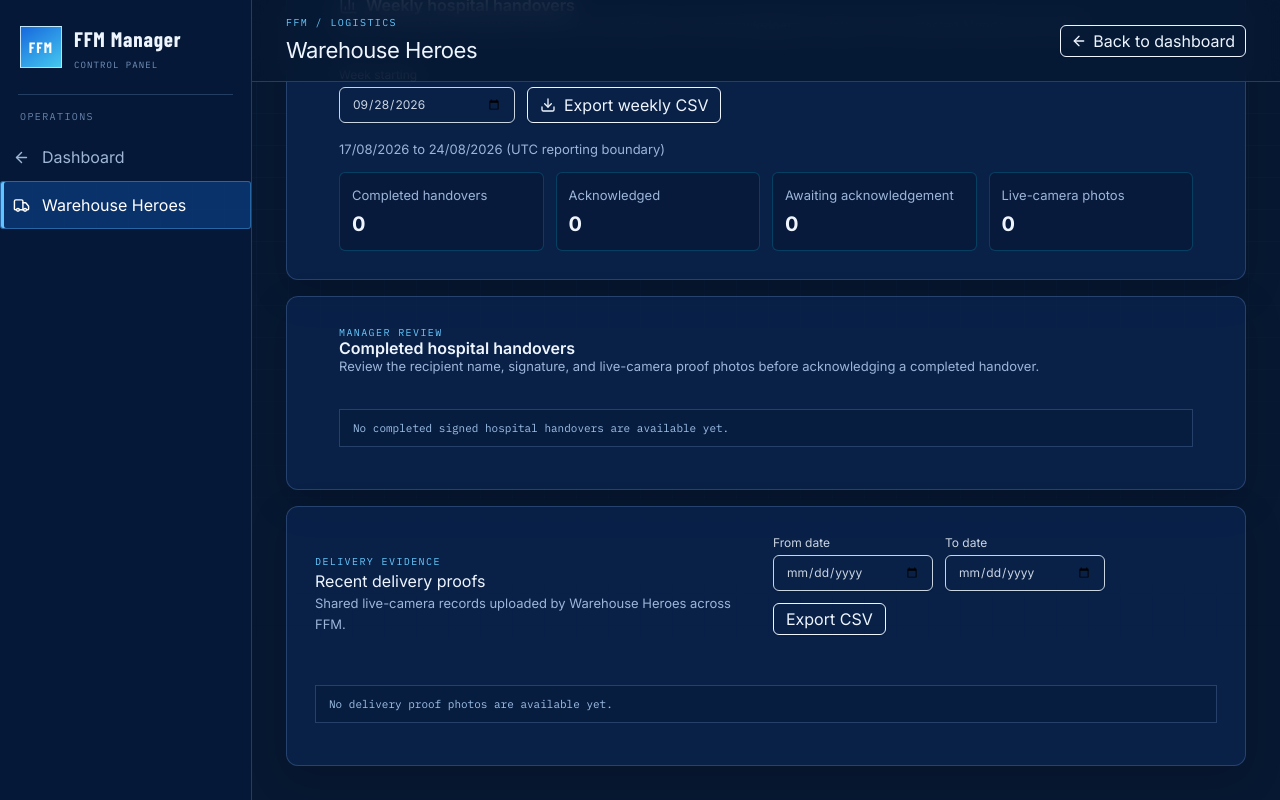
Test: WarehouseHeroesWorkspace delivery-proof export › renders visible retry feedback when the Manager delivery-proof CSV export request fails
The width and height of the screenshot is (1280, 800).
(page scrolled)
Click the button "Export CSV" at x=829, y=619, box [773,603,886,635]
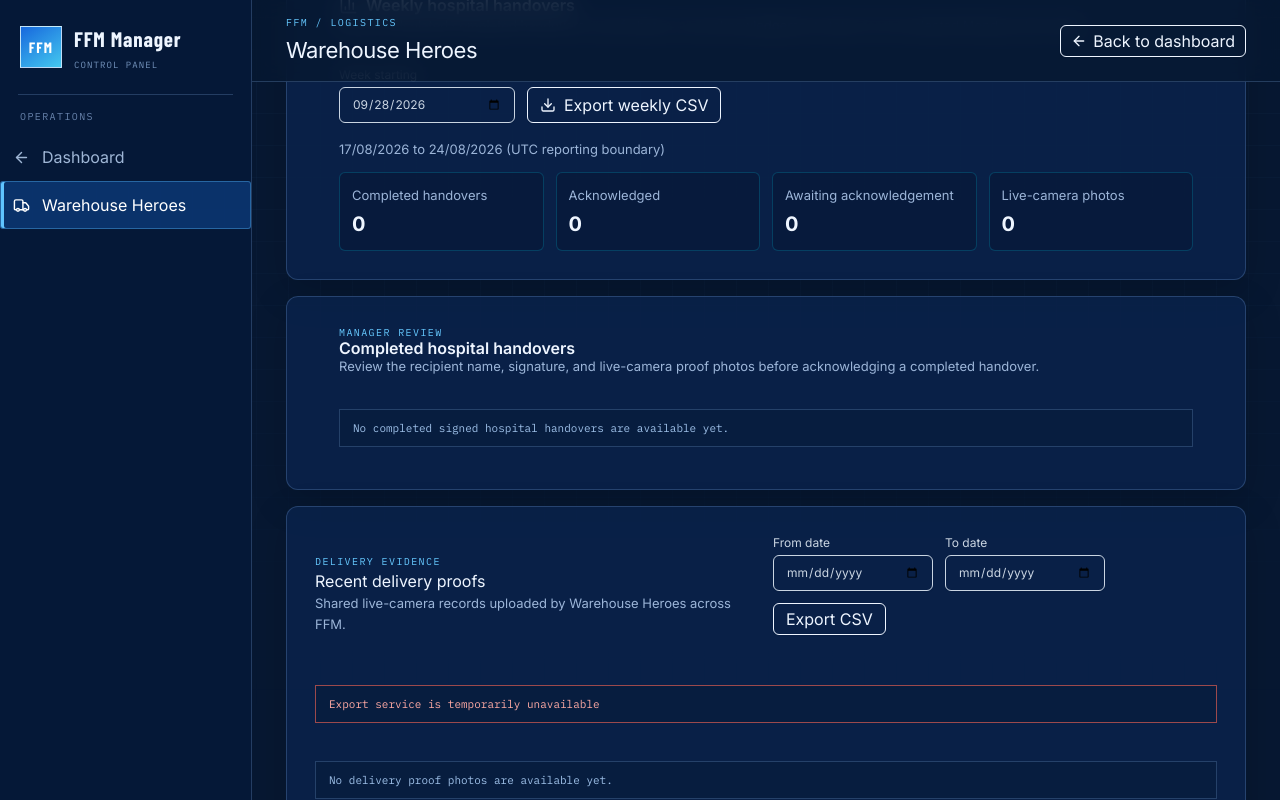
Now the text "Export service is temporarily unavailable" is shown, box [315,685,1217,723]
